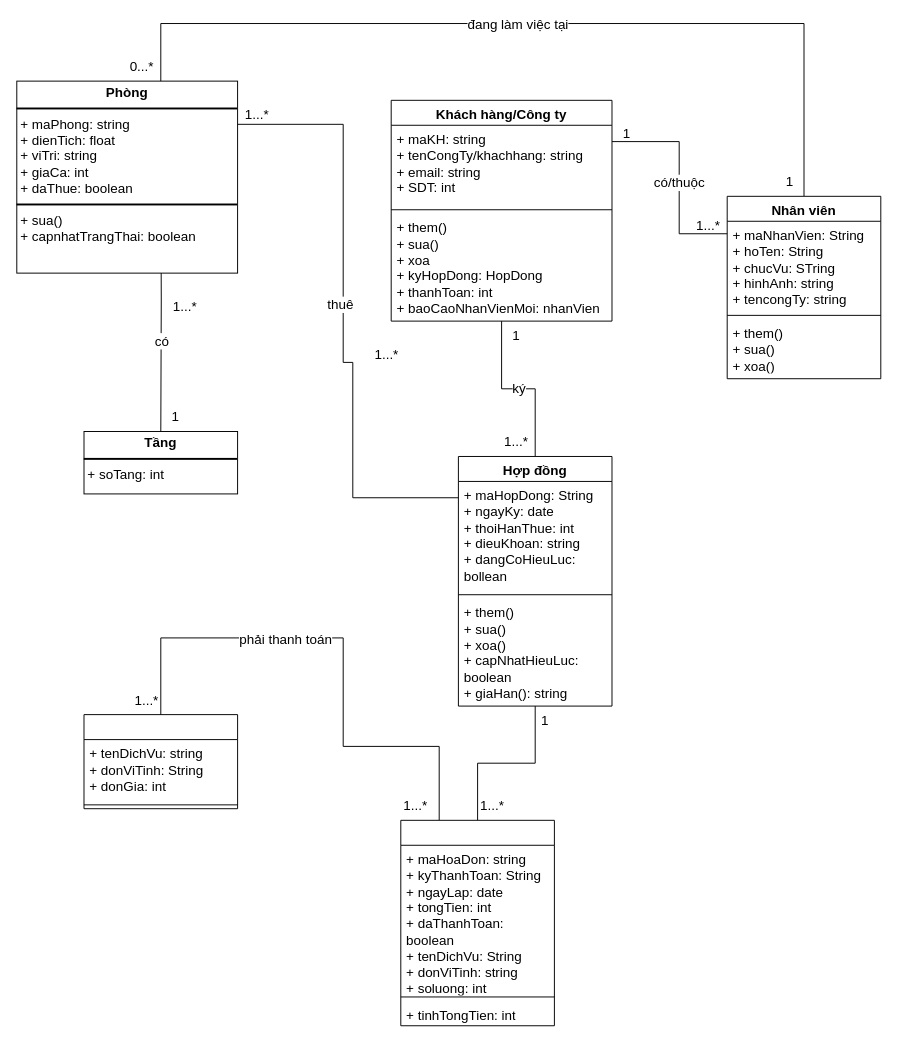
This 898x1045 diagram has some shape labels left out. The shapes that lost their labels are listed below. From the top down, each one's box as (x1, y1, x2, y2) in pixels, then its label:
(83, 714, 238, 809): Dịch vụ
(400, 819, 554, 1026): Hóa đơn
